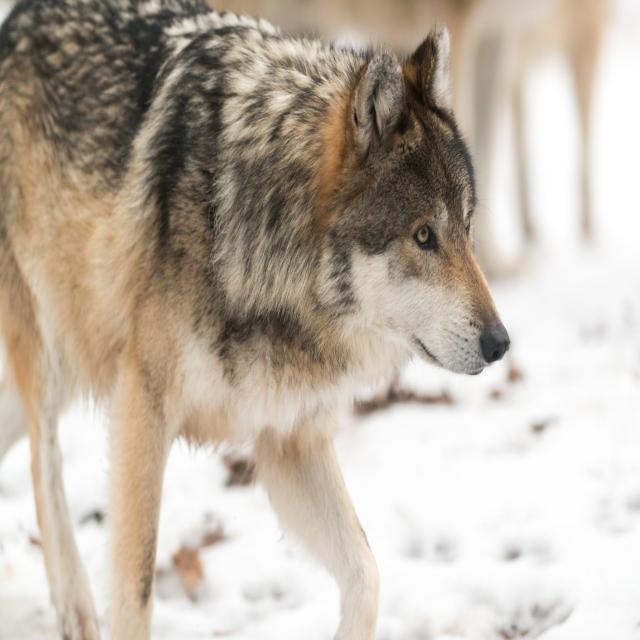Wolf: (0, 1, 511, 638)
